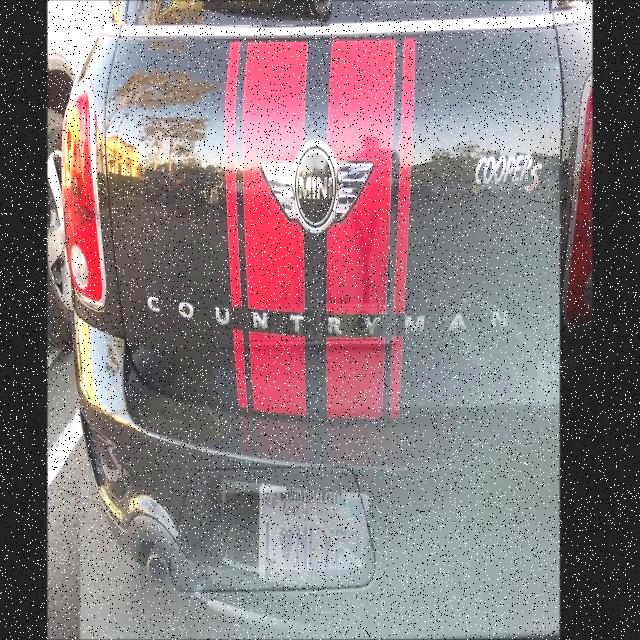licenseplate: (251, 467, 377, 590)
